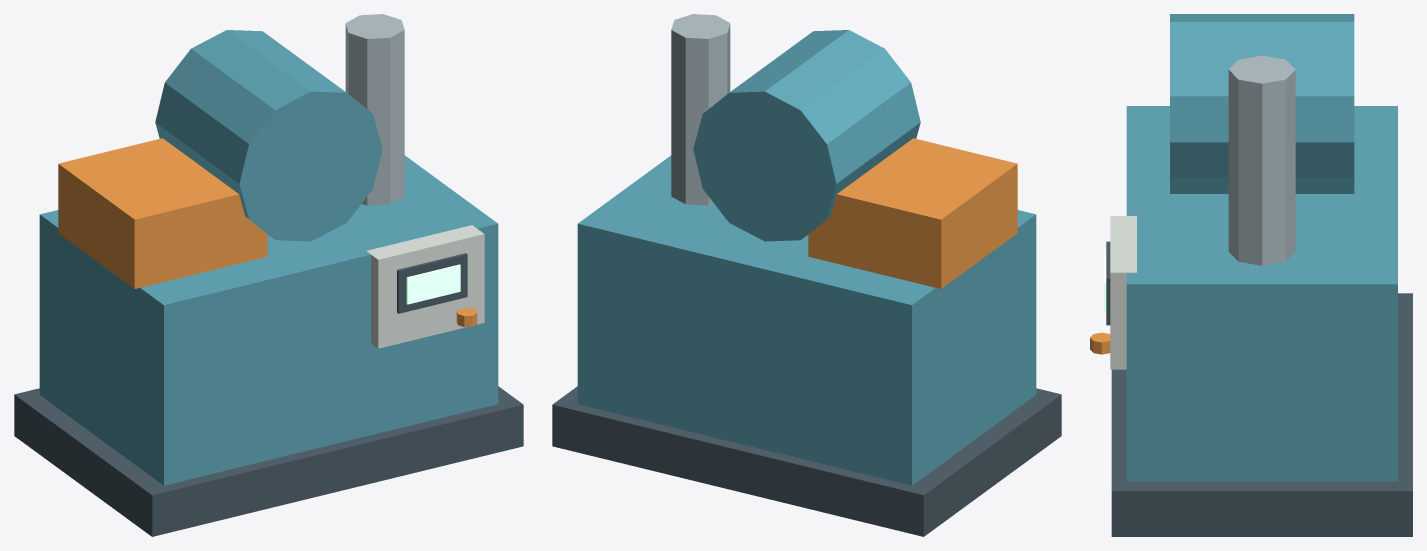
The model's file is centrifugal-transfer-pump.glb.
3 views of the same model, side by side, from view 1: azimuth 30°, elevation 25°; view 2: azimuth 150°, elevation 25°; view 3: azimuth 270°, elevation 25° (orthographic). The views are drawn at different scales.
Parts seen in each view (by area): view 1: blue, dark, orange, steel, cream, light; view 2: blue, dark, orange, steel; view 3: blue, dark, steel, cream, orange.
Boxes of the visible parts, x1,y1,x2,y2 form: blue: (39,30,498,485); dark: (14,253,523,536); orange: (58,138,477,327); steel: (345,14,404,205); cream: (366,225,484,348); light: (406,264,460,304); blue: (577,30,1036,485); dark: (552,386,1061,536); orange: (808,138,1017,288); steel: (671,14,730,205); blue: (1126,14,1397,481); dark: (1106,241,1412,536); steel: (1228,55,1295,265); cream: (1110,216,1136,369); orange: (1090,332,1110,354).
Bounding box in the file's own units: 1.4 × 1.4 × 0.964.
